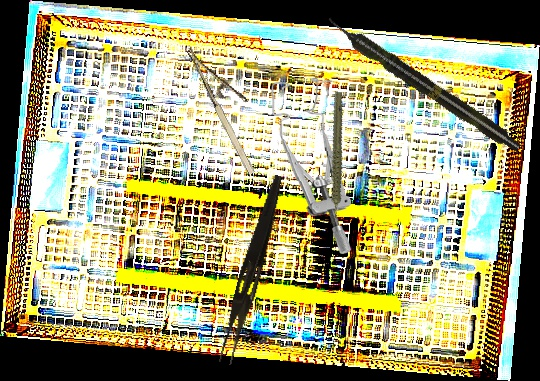Dressing Forceps: (217, 172, 286, 367)
Handpiece: (322, 11, 525, 157), (300, 90, 370, 226)
Needle Holder: (186, 35, 276, 177)
Speculum: (270, 74, 354, 258)
